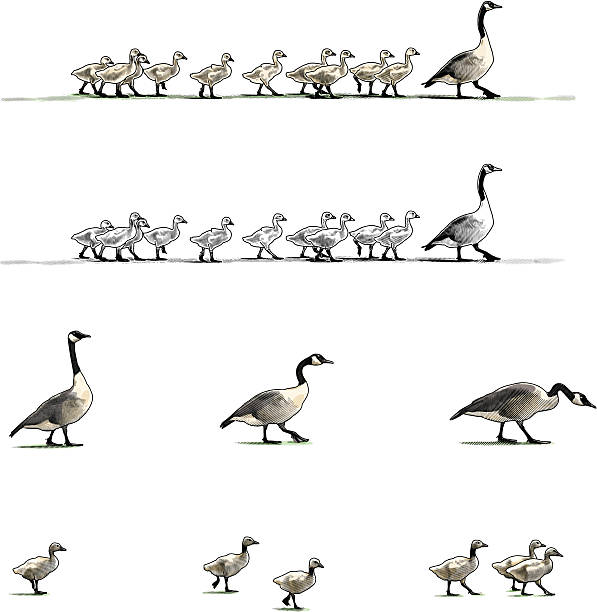goose: (213, 350, 338, 448), (5, 326, 97, 452), (446, 378, 597, 449), (415, 1, 512, 101), (420, 158, 506, 268)
